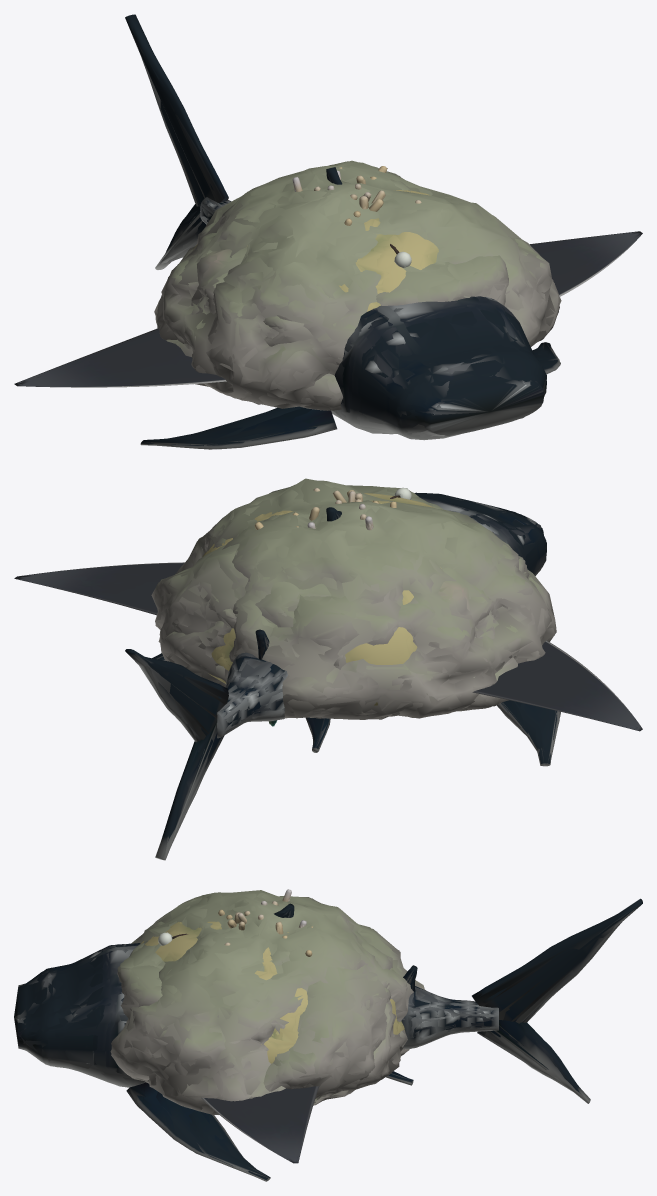
The model's file is ocean.glb.
3 views of the same model, one above another, from view 1: azimuth 30°, elevation 25°; view 2: azimuth 150°, elevation 25°; view 3: azimuth 270°, elevation 25° (orthographic). The views are drawn at different scales.
Parts seen in each view (by area): view 1: rock_a_0, rock_a_2, whaleshark_0, rock_a_1, whaleshark_1, whaleshark_2, manta_0, manta_1, rock_b_2, rock_b_0, rock_b_1, manta_2 (+4 smaller); view 2: rock_a_2, rock_a_0, rock_a_1, whaleshark_0, whaleshark_1, manta_0, whaleshark_2, manta_1, rock_b_0, rock_b_2, rock_b_1, manta_2 (+4 smaller); view 3: whaleshark_0, rock_a_0, rock_a_2, rock_a_1, whaleshark_1, whaleshark_2, rock_b_2, rock_b_0, rock_b_1, manta_0, manta_1, brain_0 (+4 smaller).
Part boxes in pixels (x1=…): rock_a_0: x1=155, y1=161, x2=558, y2=408; rock_a_2: x1=154, y1=160, x2=561, y2=406; whaleshark_0: x1=125, y1=14, x2=559, y2=449; rock_a_1: x1=156, y1=162, x2=559, y2=408; whaleshark_1: x1=128, y1=14, x2=560, y2=449; whaleshark_2: x1=125, y1=15, x2=560, y2=449; manta_0: x1=14, y1=231, x2=641, y2=387; manta_1: x1=20, y1=231, x2=642, y2=387; rock_b_2: x1=166, y1=173, x2=508, y2=410; rock_b_0: x1=176, y1=171, x2=508, y2=410; rock_b_1: x1=167, y1=181, x2=508, y2=410; manta_2: x1=17, y1=233, x2=636, y2=387; rock_a_2: x1=163, y1=478, x2=556, y2=719; rock_a_0: x1=160, y1=480, x2=556, y2=718; rock_a_1: x1=161, y1=480, x2=554, y2=719; whaleshark_0: x1=125, y1=493, x2=559, y2=859; whaleshark_1: x1=126, y1=493, x2=557, y2=860; manta_0: x1=14, y1=562, x2=642, y2=731; whaleshark_2: x1=126, y1=492, x2=560, y2=859; manta_1: x1=15, y1=562, x2=641, y2=729; rock_b_0: x1=153, y1=486, x2=524, y2=719; rock_b_2: x1=151, y1=485, x2=528, y2=719; rock_b_1: x1=152, y1=485, x2=525, y2=719; manta_2: x1=24, y1=563, x2=637, y2=729; whaleshark_0: x1=14, y1=898, x2=642, y2=1181; rock_a_0: x1=111, y1=892, x2=422, y2=1114; rock_a_2: x1=110, y1=890, x2=425, y2=1114; rock_a_1: x1=111, y1=892, x2=424, y2=1114; whaleshark_1: x1=14, y1=899, x2=642, y2=1179; whaleshark_2: x1=14, y1=899, x2=642, y2=1179; rock_b_2: x1=117, y1=933, x2=392, y2=1099; rock_b_0: x1=117, y1=931, x2=391, y2=1105; rock_b_1: x1=118, y1=936, x2=392, y2=1103; manta_0: x1=201, y1=1086, x2=319, y2=1163; manta_1: x1=208, y1=1086, x2=318, y2=1162; brain_0: x1=141, y1=922, x2=403, y2=1063.
Bounding box in the file's own units: 4.2 × 1.49 × 4.19.
